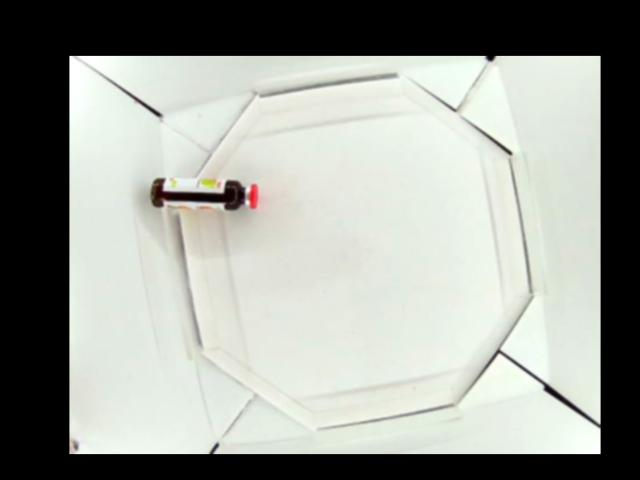Medicine: (149, 176, 258, 211)
